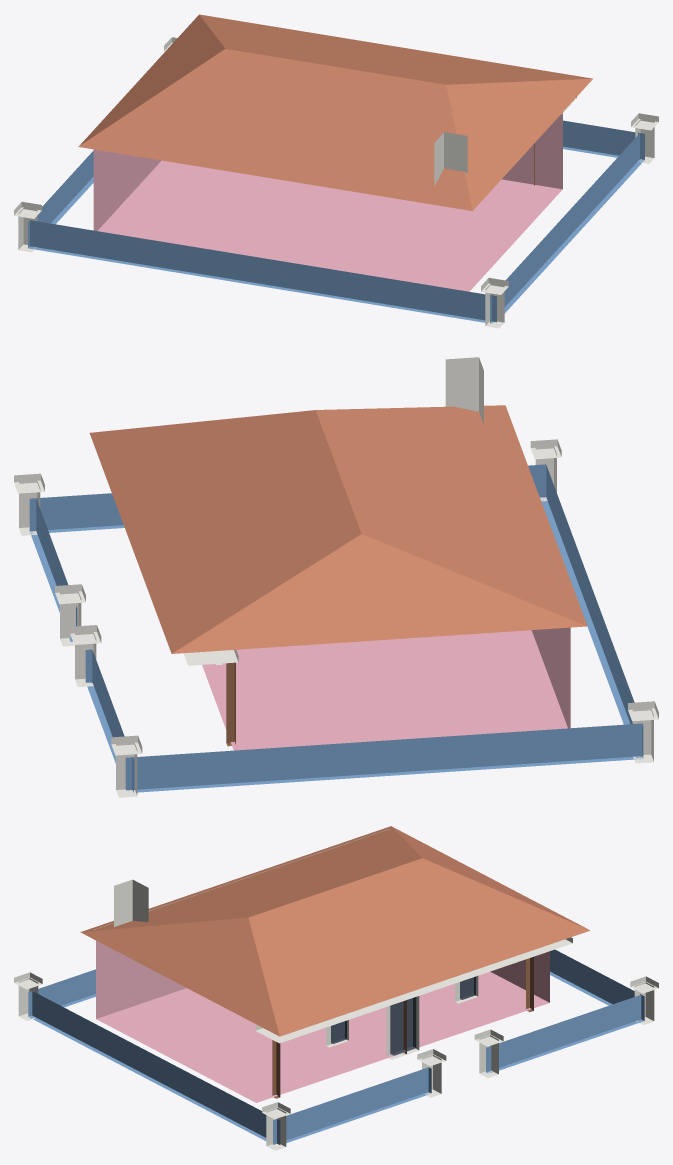
Rendered from cunucu_pos.glb.
3 renders of one model, top to bottom at view 1: azimuth 30°, elevation 25°; view 2: azimuth 150°, elevation 25°; view 3: azimuth 270°, elevation 25°, orthographic. The views are drawn at different scales.
Parts seen in each view (by area): view 1: cunucu_pos_lod0; view 2: cunucu_pos_lod0; view 3: cunucu_pos_lod0.
Boxes of the visible parts, box(x1,y1,x2,y2) form: cunucu_pos_lod0: box(14, 14, 658, 328); cunucu_pos_lod0: box(14, 357, 658, 797); cunucu_pos_lod0: box(14, 826, 658, 1150).
Size of what is drawn, in the model's own units: 19.77 by 4.65 by 20.14.
